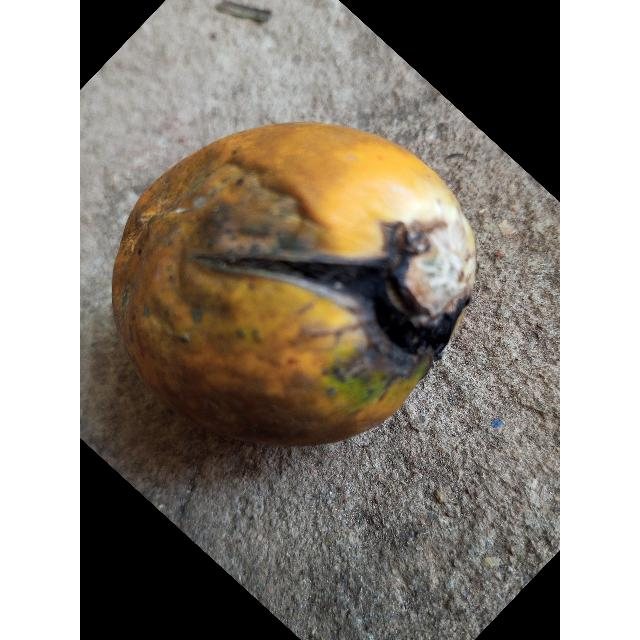damaged: (111, 123, 477, 449)
